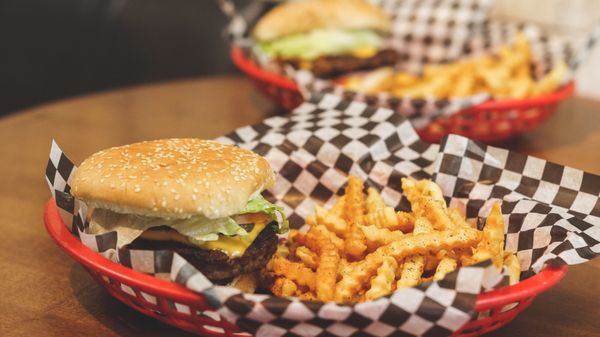soup: (222, 0, 586, 144), (65, 137, 287, 290)
